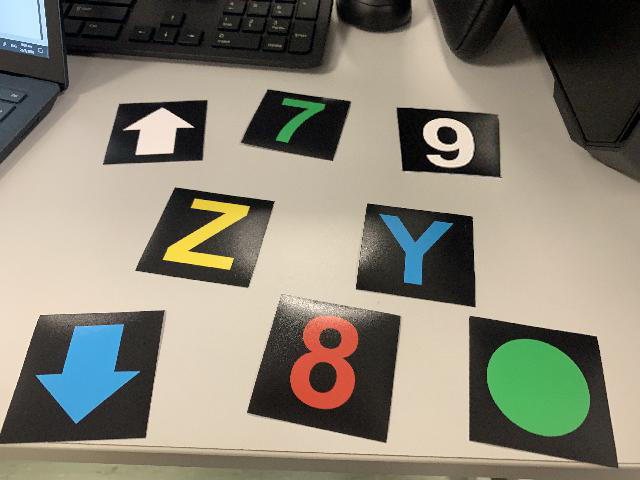alphabet_y: (354, 198, 479, 309)
alphabet_z: (133, 183, 276, 293)
down_arrow: (1, 309, 168, 445)
eight: (249, 292, 402, 445)
go: (468, 315, 621, 471)
nine: (400, 106, 507, 179)
seven: (239, 85, 354, 163)
up_arrow: (102, 96, 209, 164)
